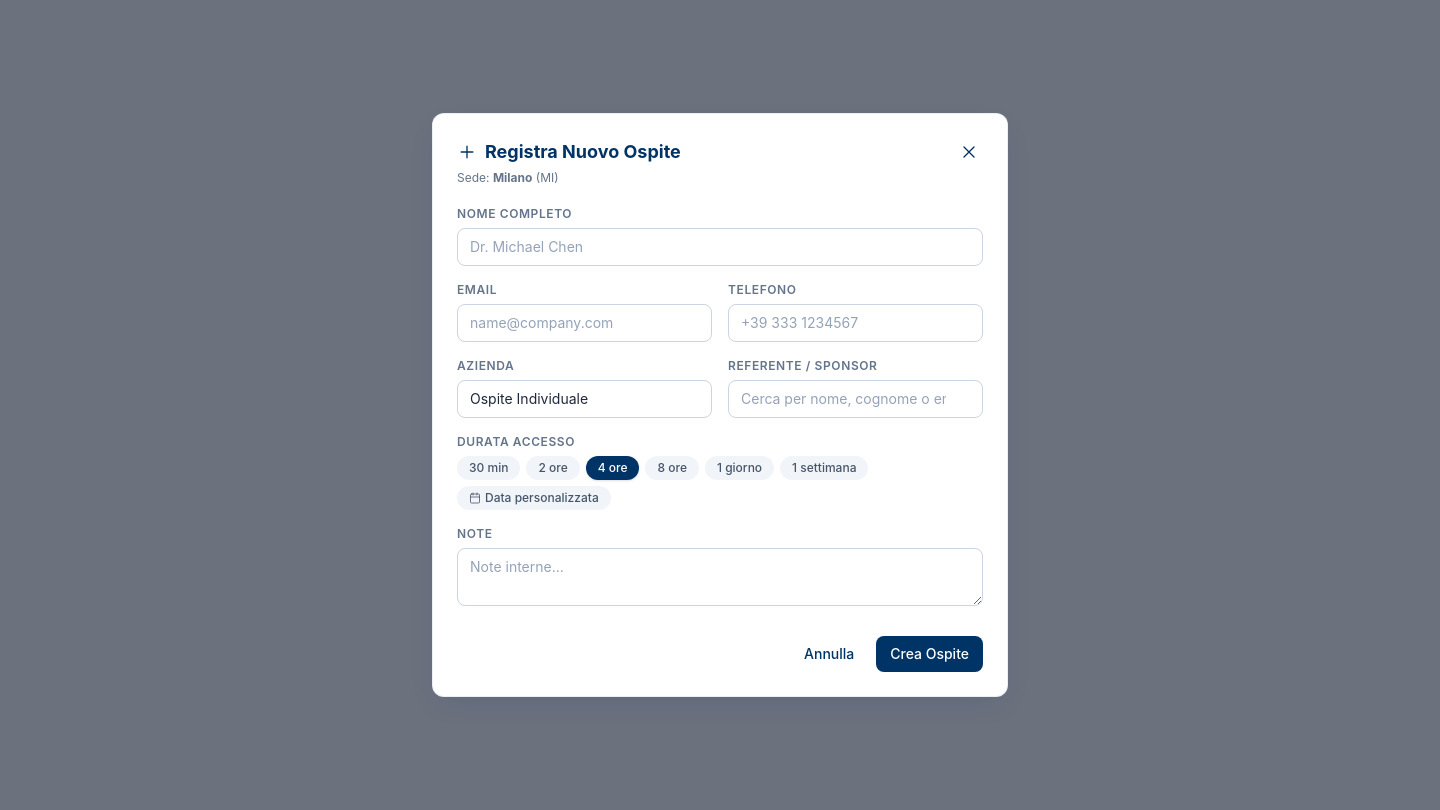
Test case: RegisterGuestModal › shows one-time password and username in success view
Type "Test Guest" into the field labelled "Nome completo".
click(720, 247); type("Test Guest")  # box top-left (457, 228), bottom-right (983, 266)
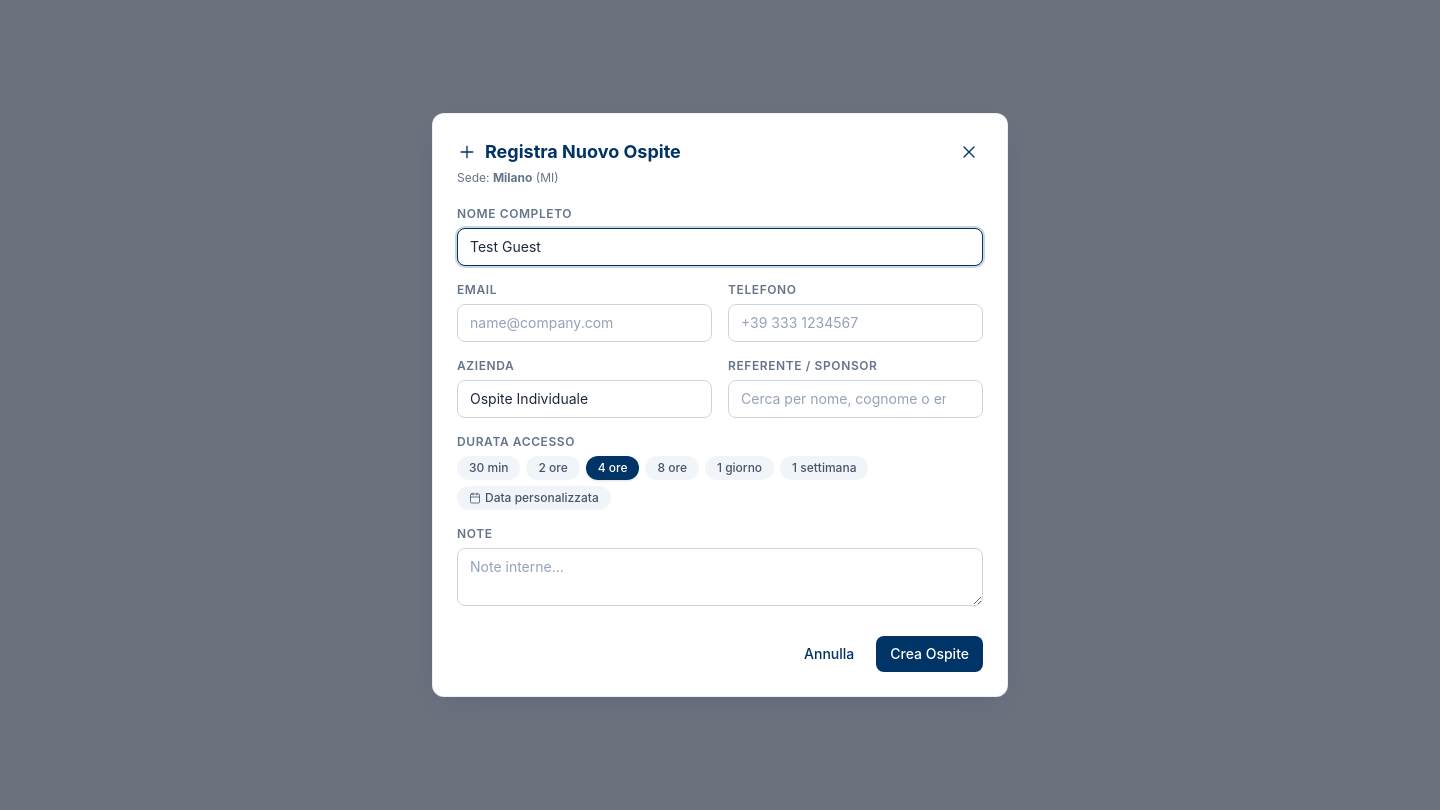
Type "Dr. Rossi" into the dropdown labelled "Referente / Sponsor".
click(856, 399); type("Dr. Rossi")  # box top-left (728, 380), bottom-right (983, 418)
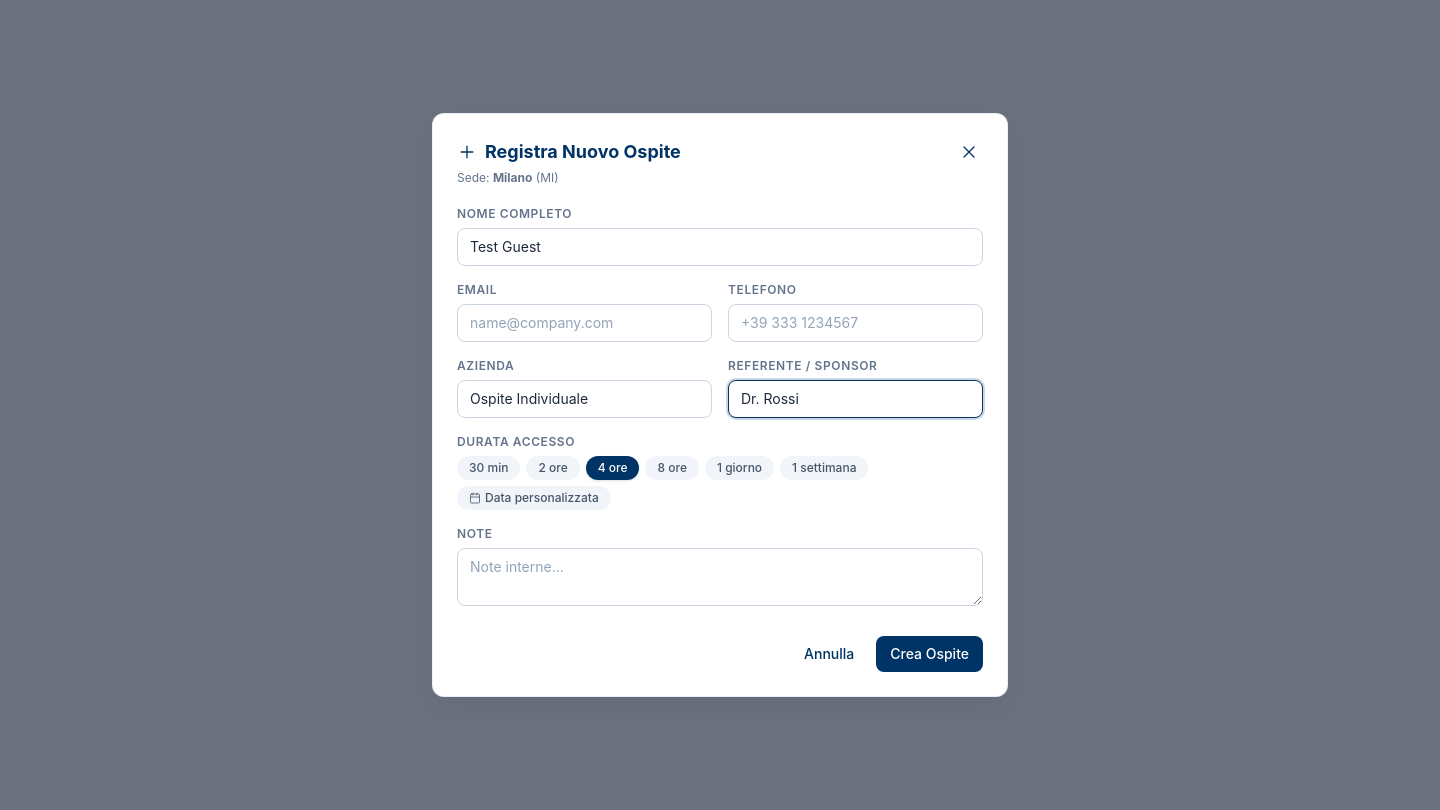
Click the button "Crea Ospite".
click(930, 654)  # box top-left (876, 636), bottom-right (983, 672)
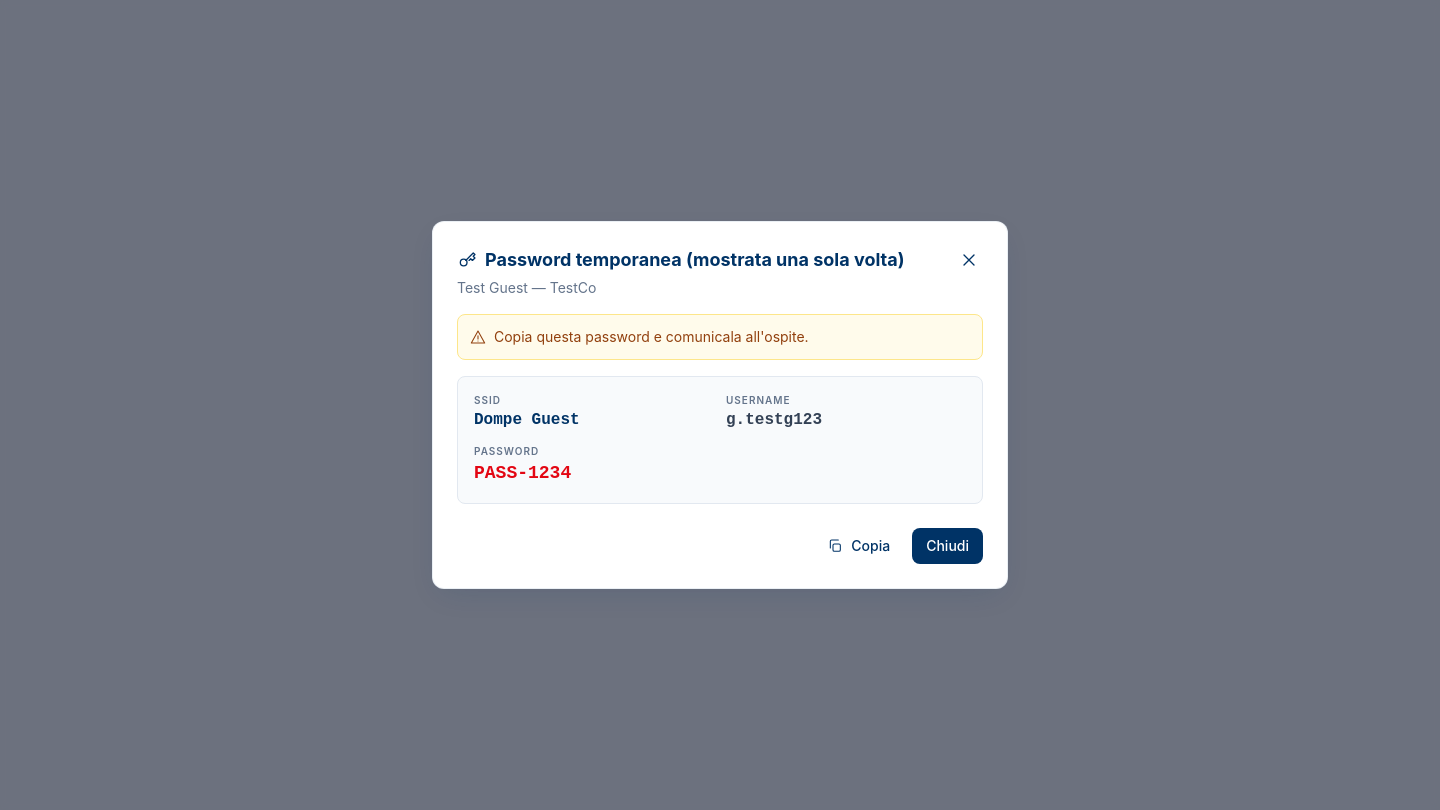
Result: the text "g.testg123" is shown at top-left (726, 411), bottom-right (822, 429)
Result: the text "PASS-1234" is shown at top-left (474, 463), bottom-right (571, 483)
